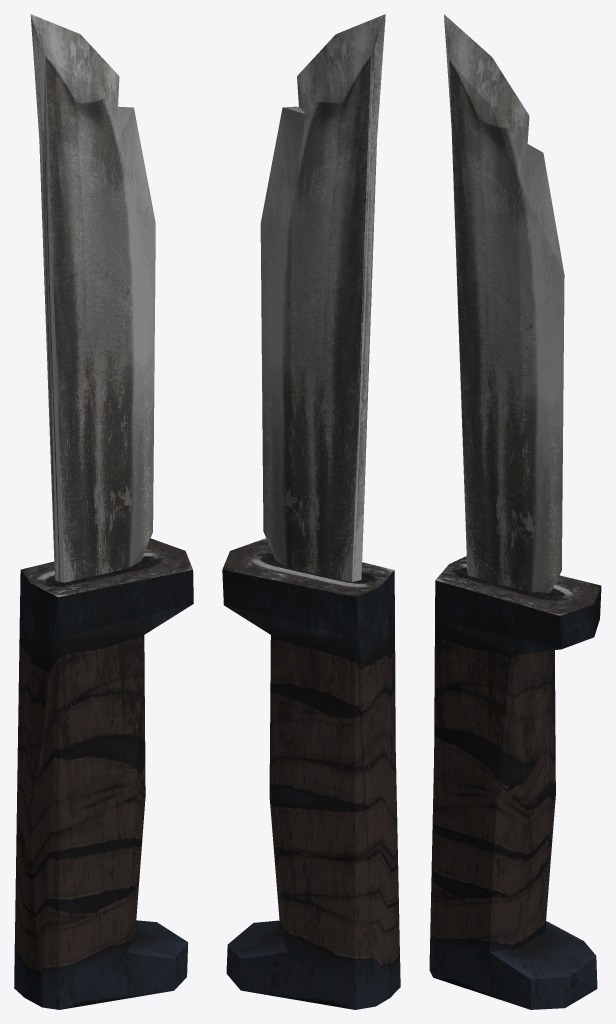
The model's file is knife.fbx.
3 renders of one model, left to right at view 1: azimuth 30°, elevation 25°; view 2: azimuth 150°, elevation 25°; view 3: azimuth 330°, elevation 25°, orthographic. The views are drawn at different scales.
Visible parts, largest first — view 1: Knife; view 2: Knife; view 3: Knife.
Boxes of the visible parts, x1,y1,x2,y2 form: Knife: (14, 14, 193, 1009); Knife: (222, 14, 400, 1009); Knife: (429, 14, 601, 1009).
Size of the model in its own units: 0.000632 by 0.0037 by 0.000372.
